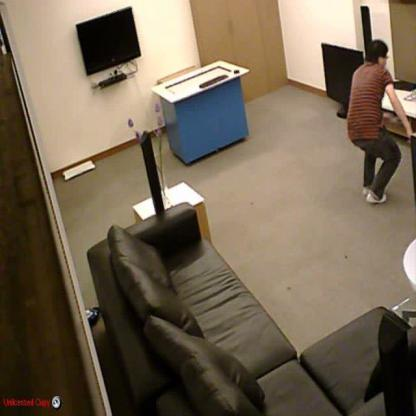Person: (346, 39, 413, 203)
